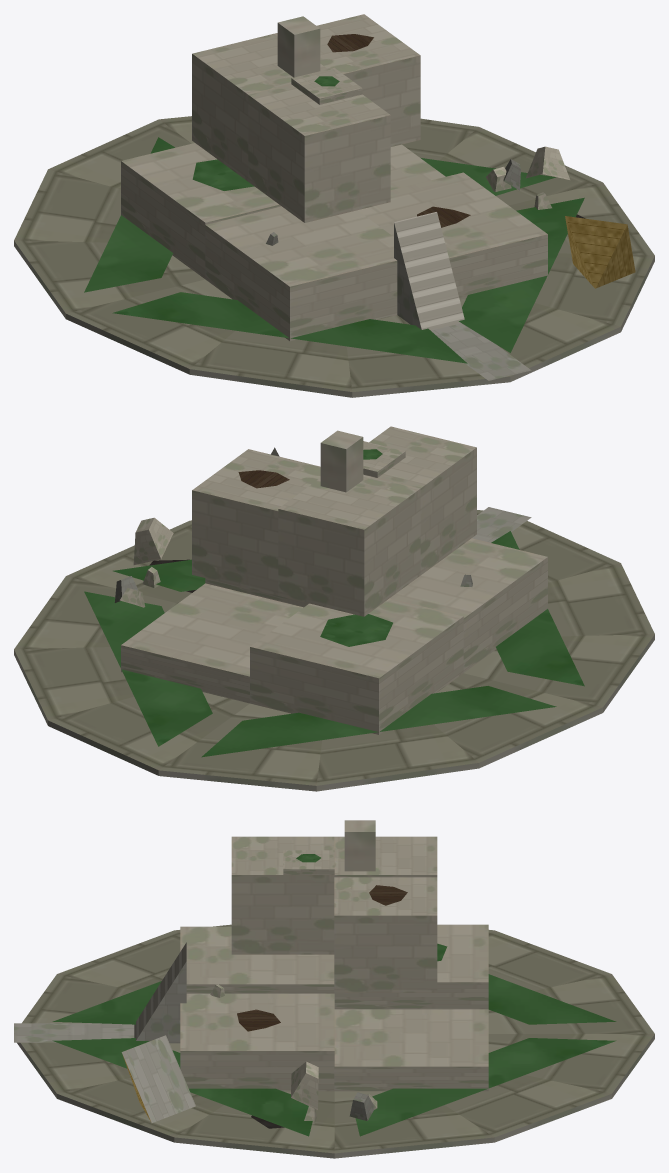
Rendered from pyramid_large_destroyed_lod2.glb.
3 renders of one model, top to bottom at view 1: azimuth 30°, elevation 25°; view 2: azimuth 150°, elevation 25°; view 3: azimuth 270°, elevation 25°, orthographic. The views are drawn at different scales.
Parts seen in each view (by area): view 1: pyramid_large_destroyed_lod2; view 2: pyramid_large_destroyed_lod2; view 3: pyramid_large_destroyed_lod2.
Part boxes in pixels (<box>): pyramid_large_destroyed_lod2: <box>14,14,654,397</box>; pyramid_large_destroyed_lod2: <box>14,426,654,791</box>; pyramid_large_destroyed_lod2: <box>14,820,654,1158</box>.
Bounding box in the file's own units: 1.68 × 0.6653 × 1.9.
Materials: 1 (1 with a texture image).
